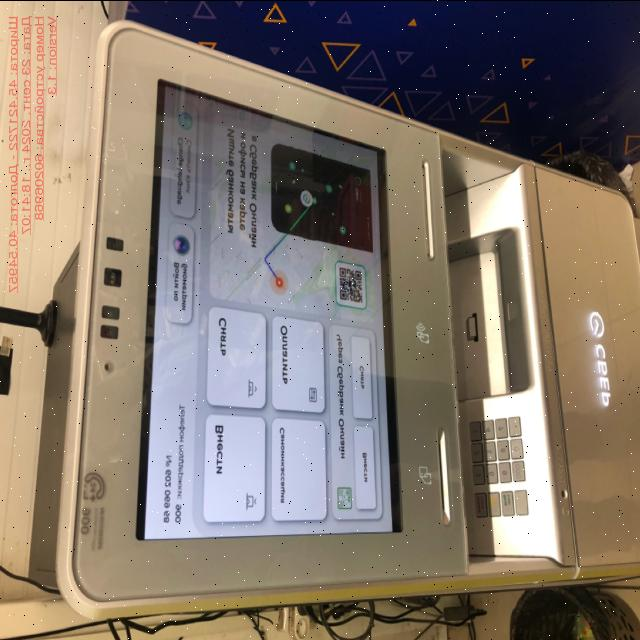bank: (25, 23, 640, 622)
